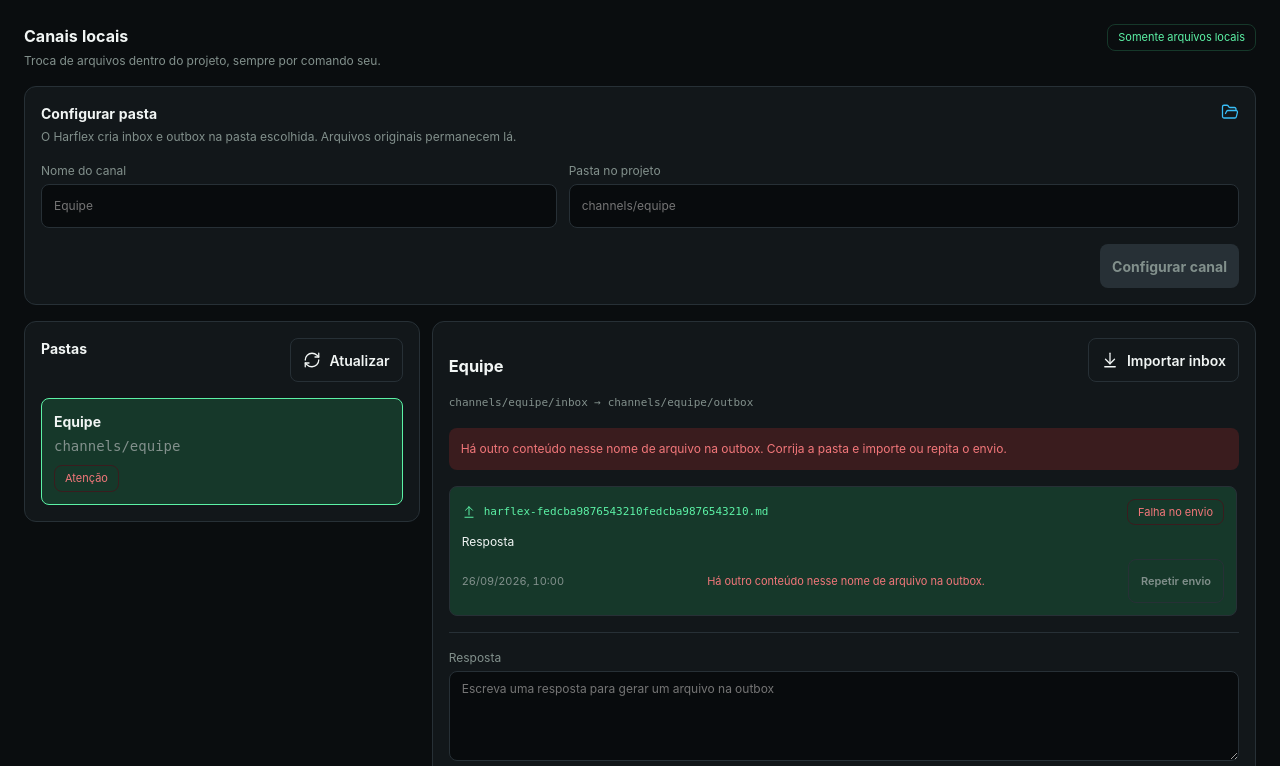
Test: reloads failed delivery and repeats only after explicit action
Check: the text "Falha no envio" is shown, box 1127,499 -> 1224,525
Click the button "Repetir envio" at point(1176, 581), box 1128,559 -> 1224,603
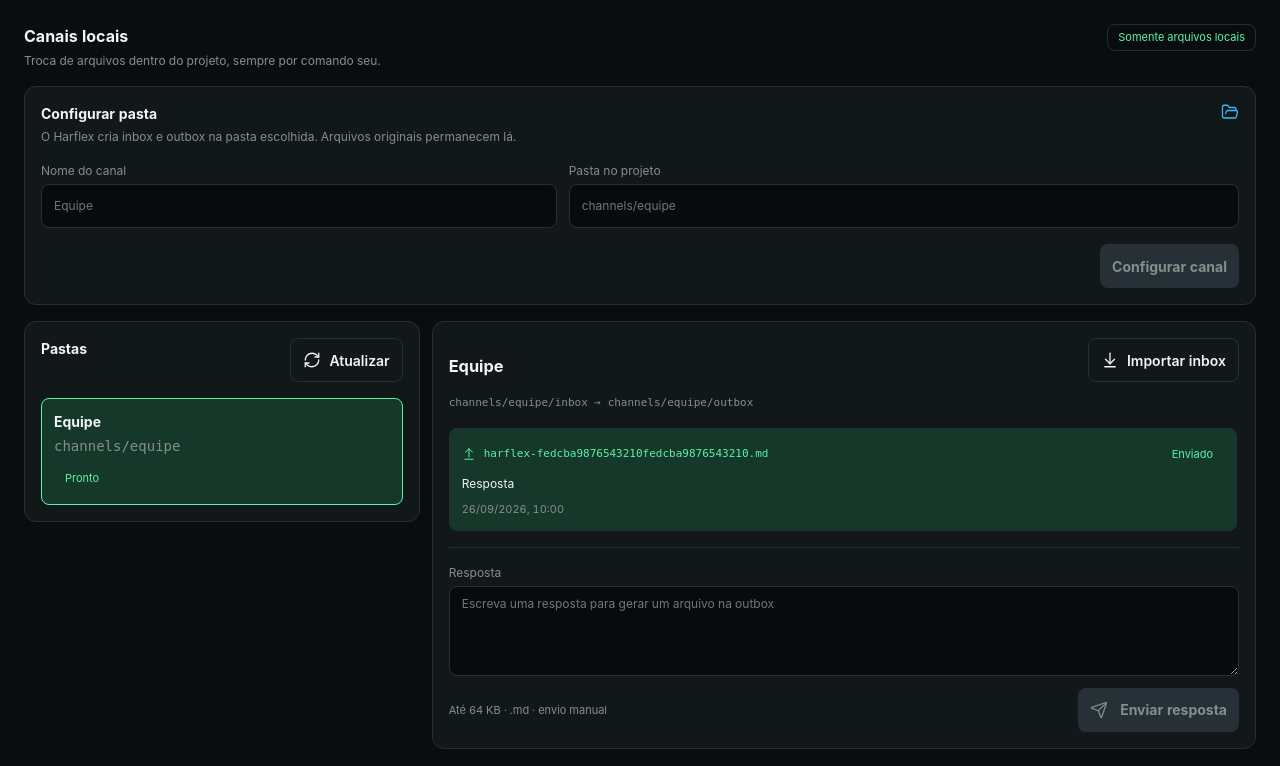
Check: the text "Enviado" is shown, box 1161,441 -> 1224,467
